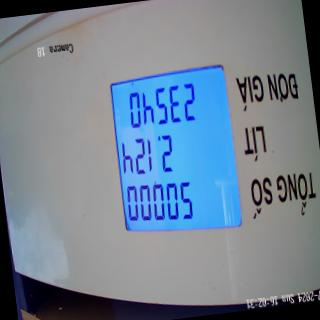screen: (105, 64, 248, 248)
